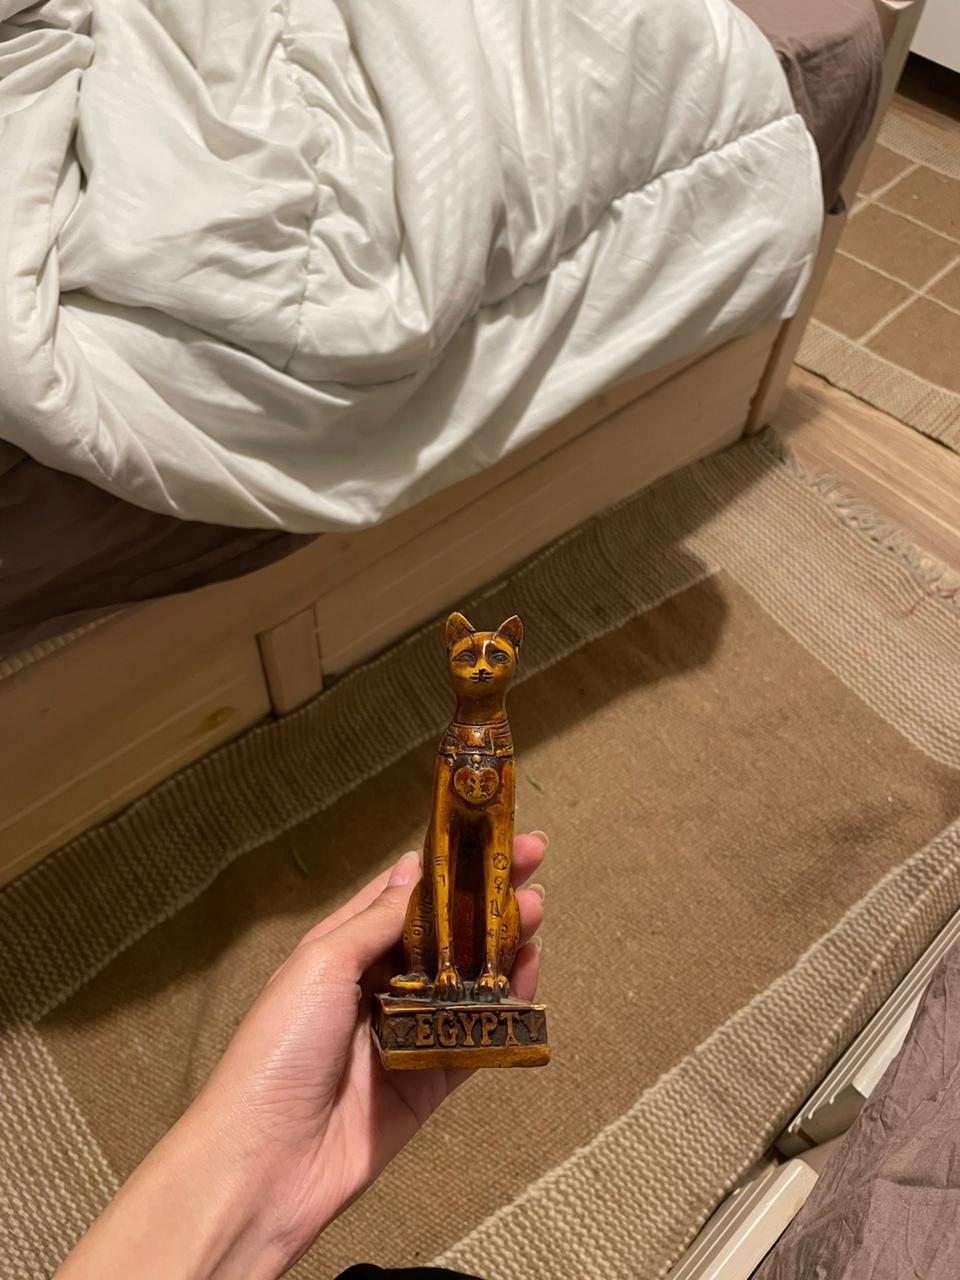Past: (370, 604, 551, 1068)
